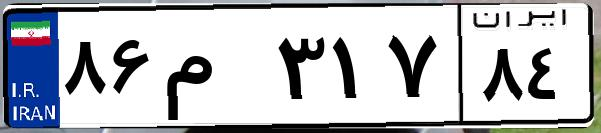1: (330, 28, 385, 110)
3: (270, 28, 330, 110)
4: (525, 38, 570, 115)
6: (110, 28, 158, 98)
7: (385, 28, 445, 110)
8: (57, 26, 110, 100), (475, 38, 525, 113)
م: (158, 20, 270, 120)
